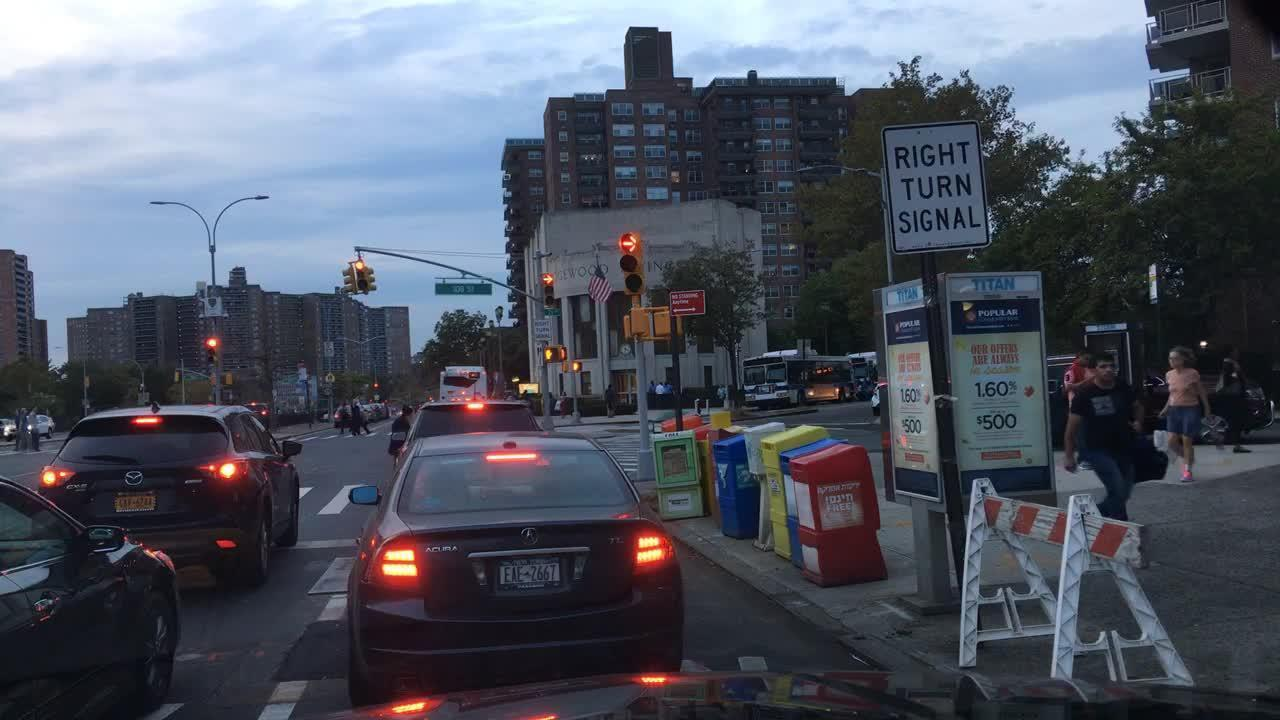Mazda: (117, 463, 149, 491)
acura: (517, 523, 546, 551)
